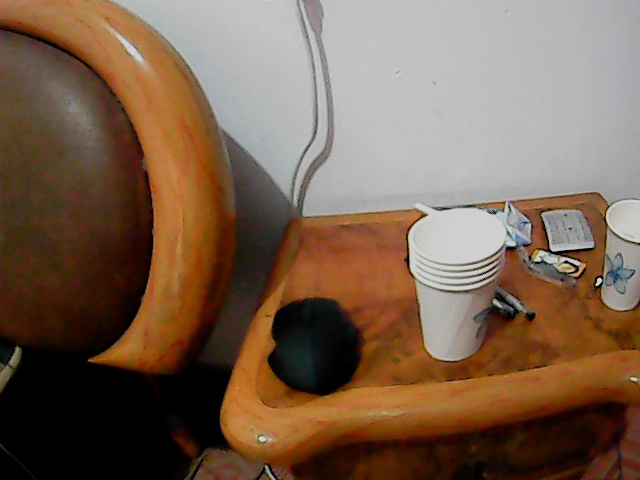cup: (404, 206, 505, 365)
mouse: (267, 295, 364, 395)
